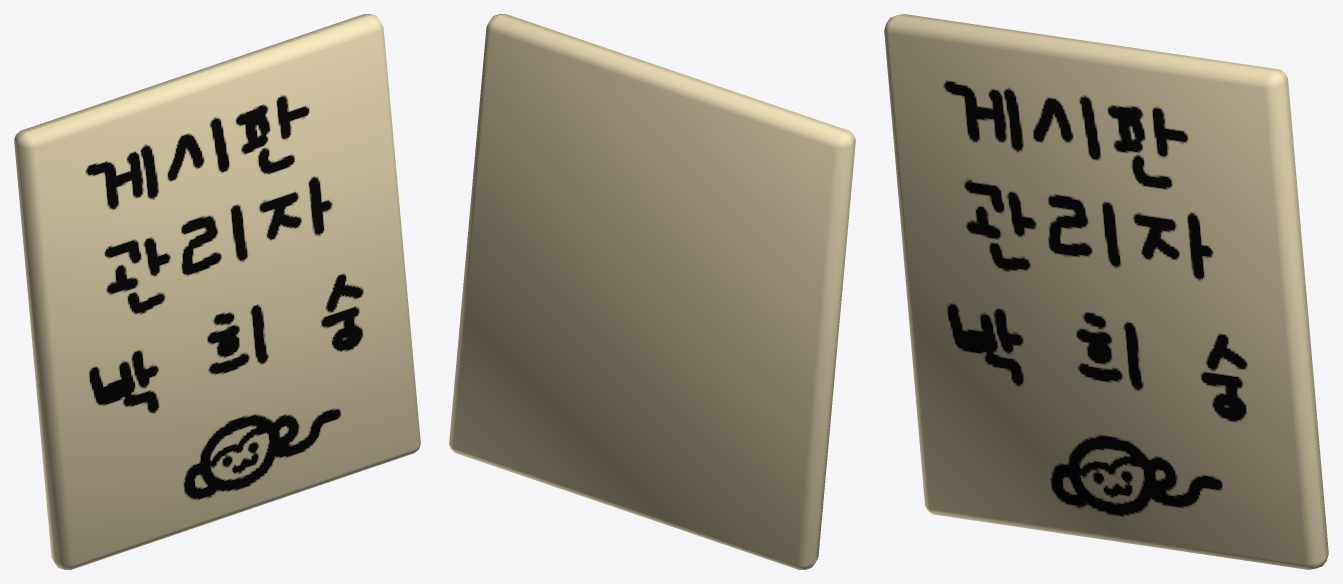
File: WonesoongMemo.glb
3 renders of one model, left to right at view 1: azimuth 30°, elevation 25°; view 2: azimuth 150°, elevation 25°; view 3: azimuth 330°, elevation 25°, orthographic. The views are drawn at different scales.
Parts seen in each view (by area): view 1: Wonesoong; view 2: Wonesoong; view 3: Wonesoong.
Boxes of the visible parts, <box> form: Wonesoong: <box>14,14,420,569</box>; Wonesoong: <box>449,14,855,569</box>; Wonesoong: <box>884,14,1328,569</box>.
Bounding box in the file's own units: 0.7972 × 0.91 × 0.0595.
1 material, 1 textured.
